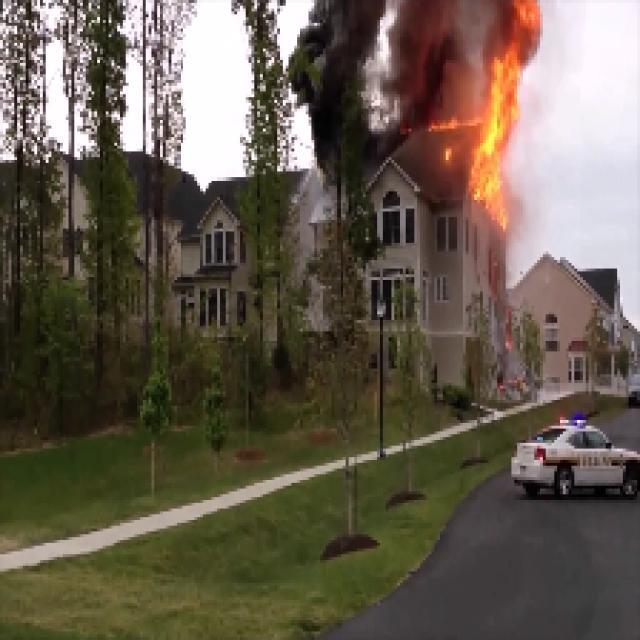Fire: (479, 56, 515, 204)
Smoke: (329, 5, 472, 123)
